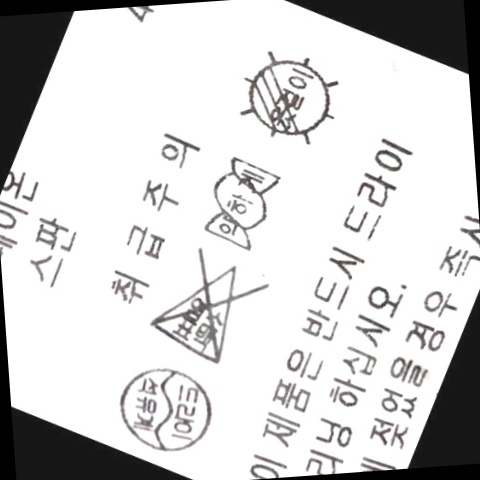dry_clean_petrol_only: (116, 362, 223, 455)
line_dry_in_shade: (236, 51, 342, 150)
non_chlorine_bleach: (152, 252, 260, 367)
wring: (200, 158, 291, 251)
